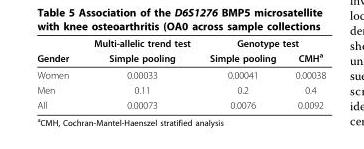table: (36, 37, 325, 110)
table column: (80, 37, 199, 110), (199, 37, 285, 110), (36, 37, 80, 110), (285, 37, 325, 110)
table column header: (36, 37, 325, 66)
table row: (36, 49, 325, 66), (36, 66, 325, 82), (36, 82, 325, 97), (36, 97, 325, 110), (36, 37, 325, 49)
table spanning cell: (80, 37, 199, 66), (199, 37, 325, 49), (36, 37, 80, 66)
